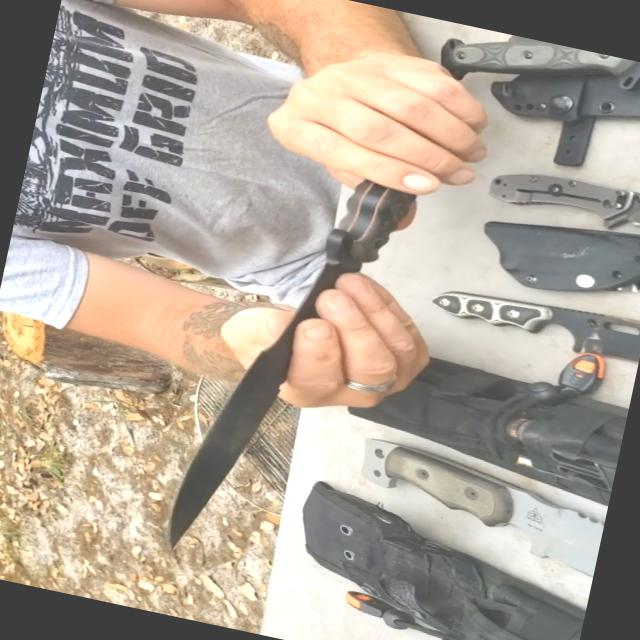knife: (157, 125, 436, 602)
